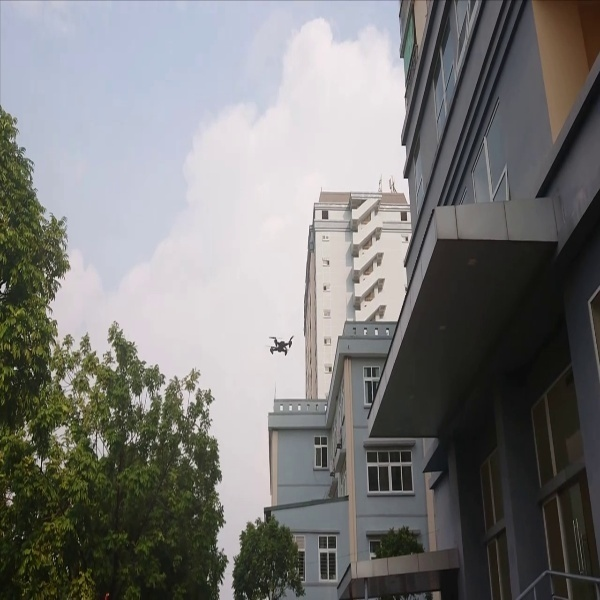drone: (256, 325, 301, 363)
